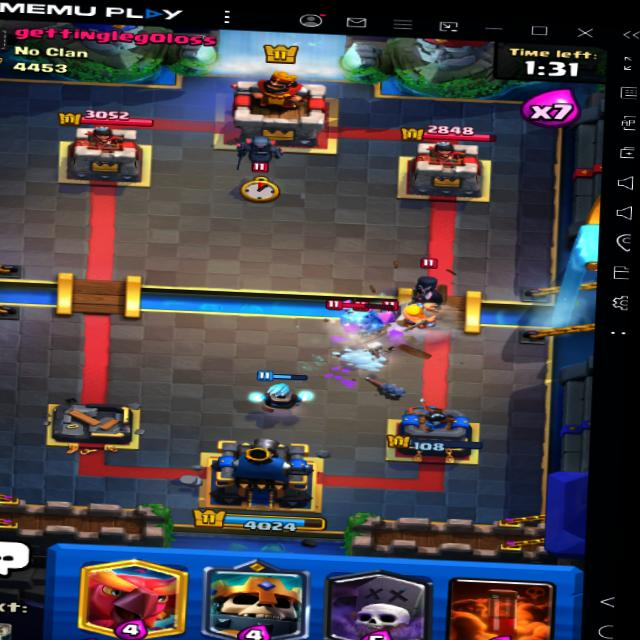Babydragon: (328, 294, 396, 339)
Minipekka: (233, 129, 291, 167)
Nightwitch: (399, 257, 451, 316)
